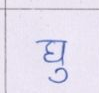u_matra: (50, 67, 70, 84)
